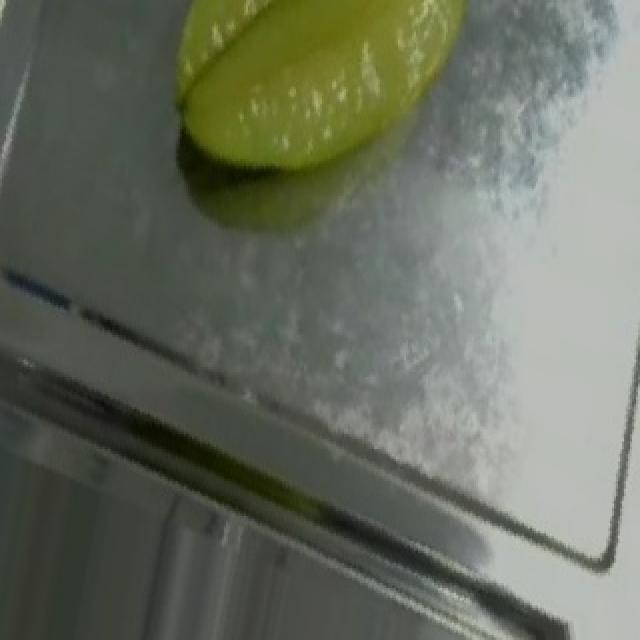fruit: (140, 0, 504, 208)
